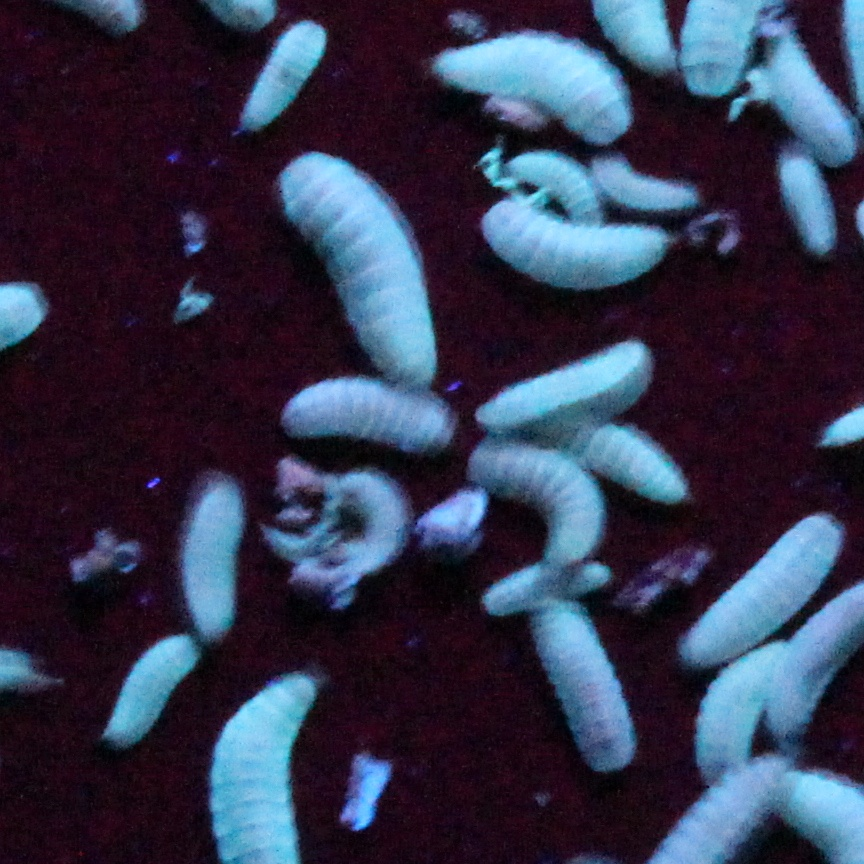larve: (270, 155, 439, 379), (433, 40, 628, 145), (690, 516, 834, 657), (530, 605, 638, 769), (486, 201, 667, 293), (479, 337, 654, 432), (470, 440, 598, 564), (101, 634, 195, 751), (276, 383, 449, 443), (693, 649, 776, 770), (571, 427, 693, 506), (243, 23, 327, 132), (183, 480, 240, 639), (769, 37, 846, 154), (772, 153, 836, 262), (596, 155, 697, 217), (483, 562, 611, 610)
